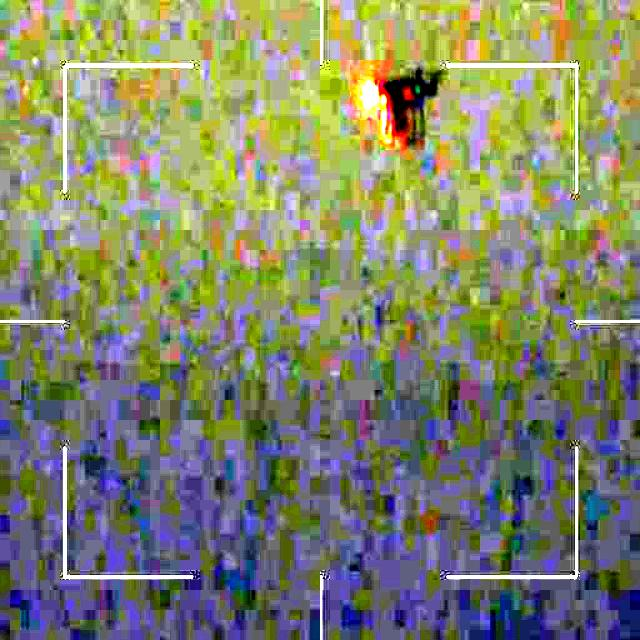bird: (352, 61, 446, 150)
